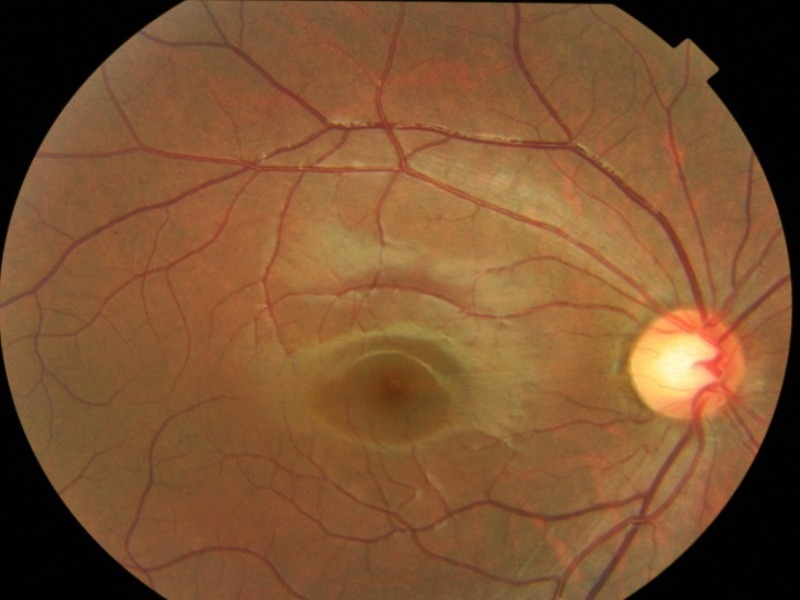Optic Cup: (660, 337, 713, 392)
Optic Disc: (627, 309, 747, 417)
